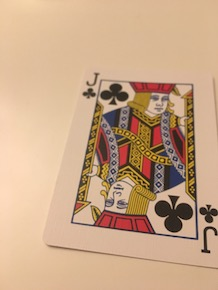JackOfClubs: (39, 60, 218, 271)
